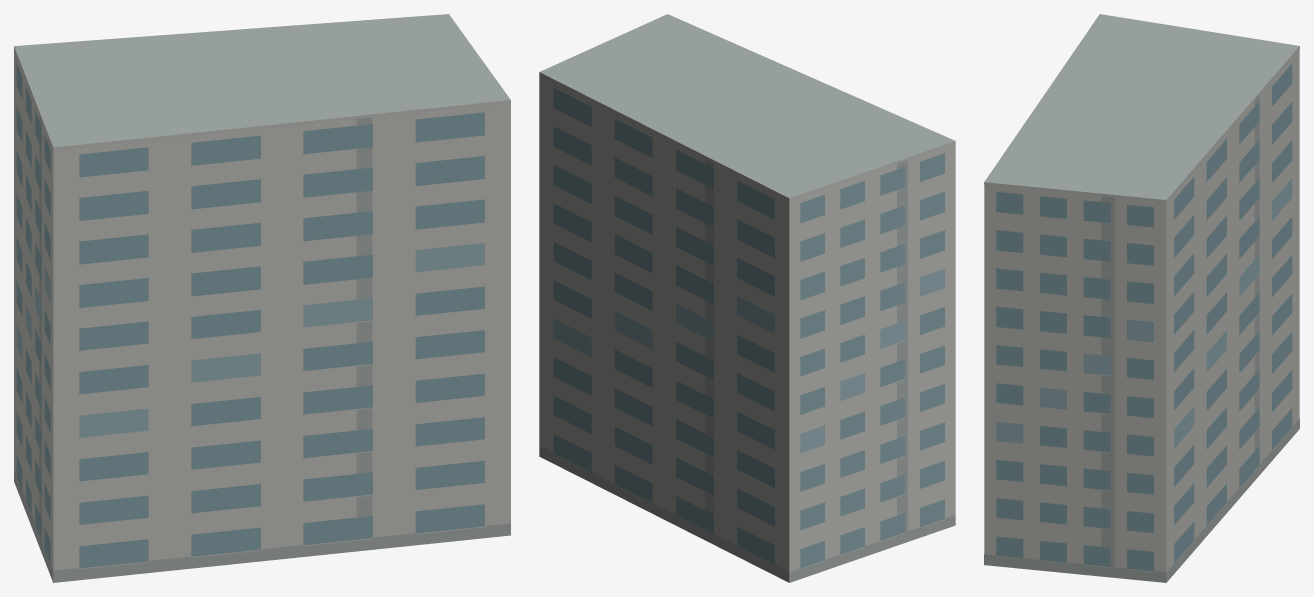
The model's file is residential-a6e5f1a2-7f0c-4774-a639-991c16c6c55a.glb.
The picture shows the model from 3 angles, left to right: view 1: azimuth 30°, elevation 25°; view 2: azimuth 150°, elevation 25°; view 3: azimuth 270°, elevation 25°; orthographic projection. The views are drawn at different scales.
Visible parts, largest first — view 1: residential-a6e5f1a2-7f0c-4774-a639-991c16c6c55a.tmp; view 2: residential-a6e5f1a2-7f0c-4774-a639-991c16c6c55a.tmp; view 3: residential-a6e5f1a2-7f0c-4774-a639-991c16c6c55a.tmp.
Boxes of the visible parts, <box> form: residential-a6e5f1a2-7f0c-4774-a639-991c16c6c55a.tmp: <box>14,14,510,582</box>; residential-a6e5f1a2-7f0c-4774-a639-991c16c6c55a.tmp: <box>539,14,955,582</box>; residential-a6e5f1a2-7f0c-4774-a639-991c16c6c55a.tmp: <box>984,14,1299,582</box>.
Bounding box in the file's own units: 37.52 × 36 × 26.91.
